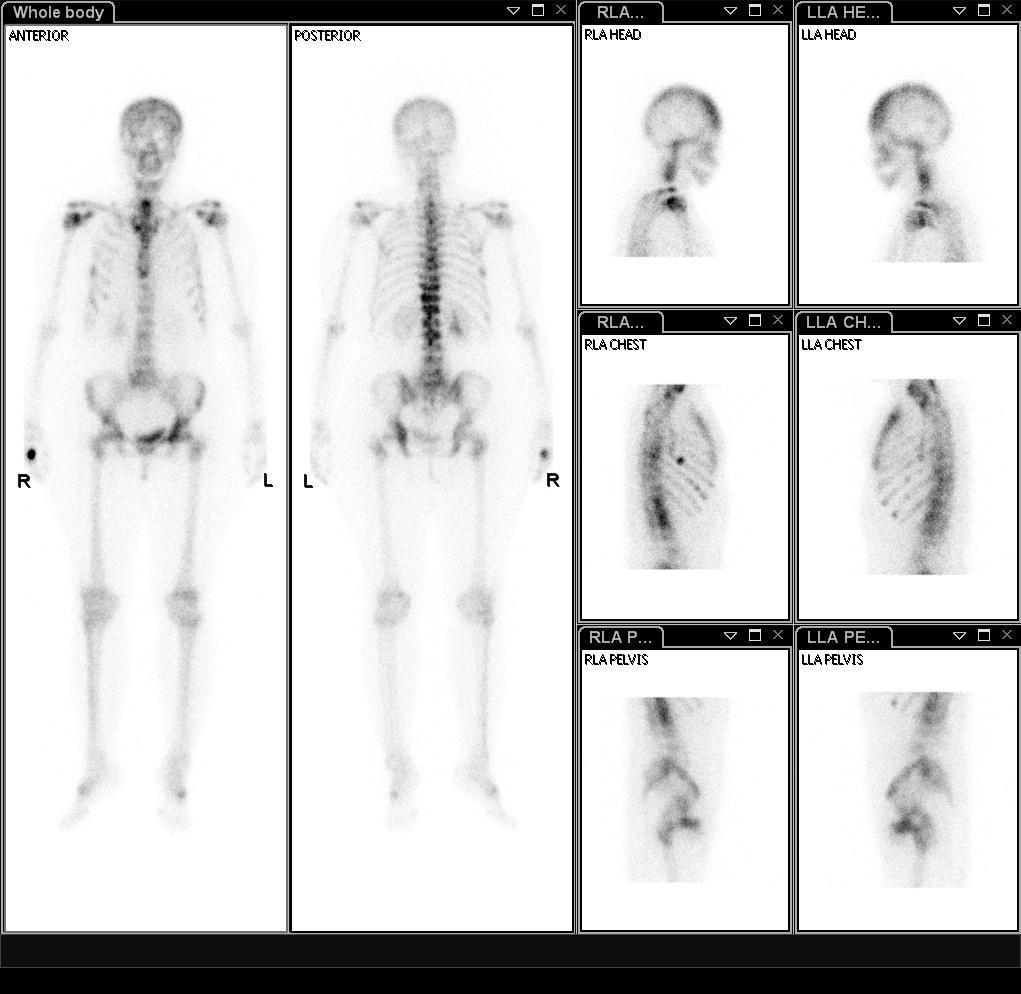person: (3, 26, 574, 931)
